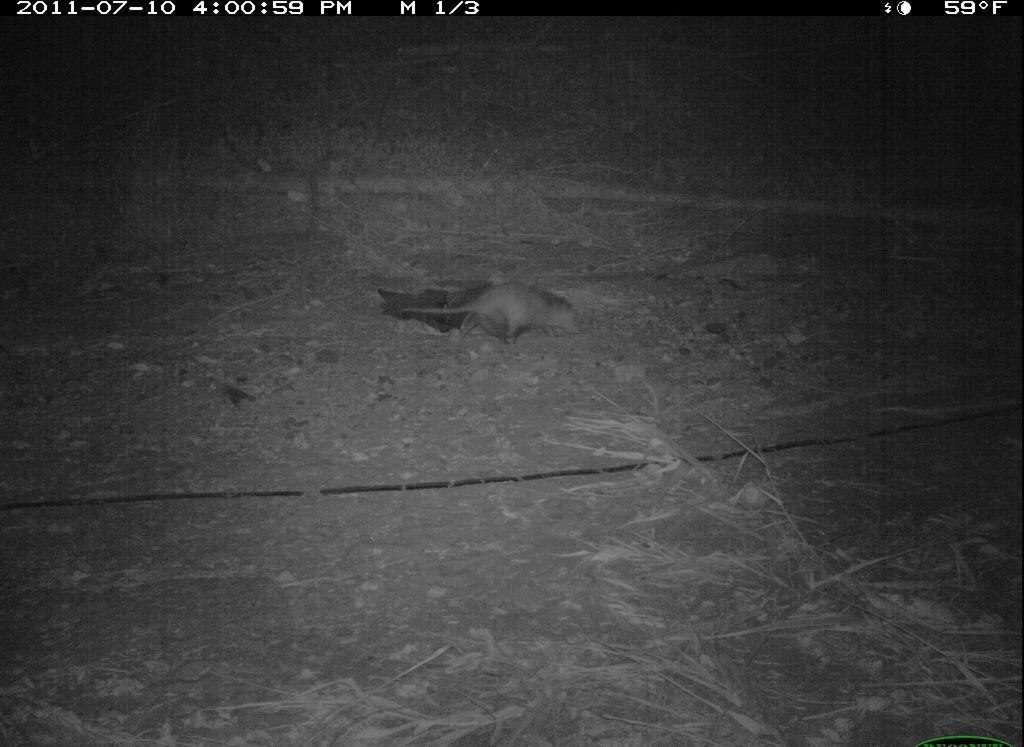opossum: (399, 271, 593, 370)
